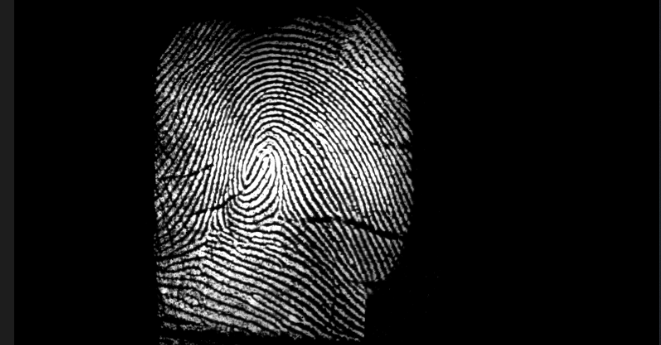deltas: (190, 203, 236, 255), (262, 194, 301, 234)
nucleo: (239, 137, 284, 185)
